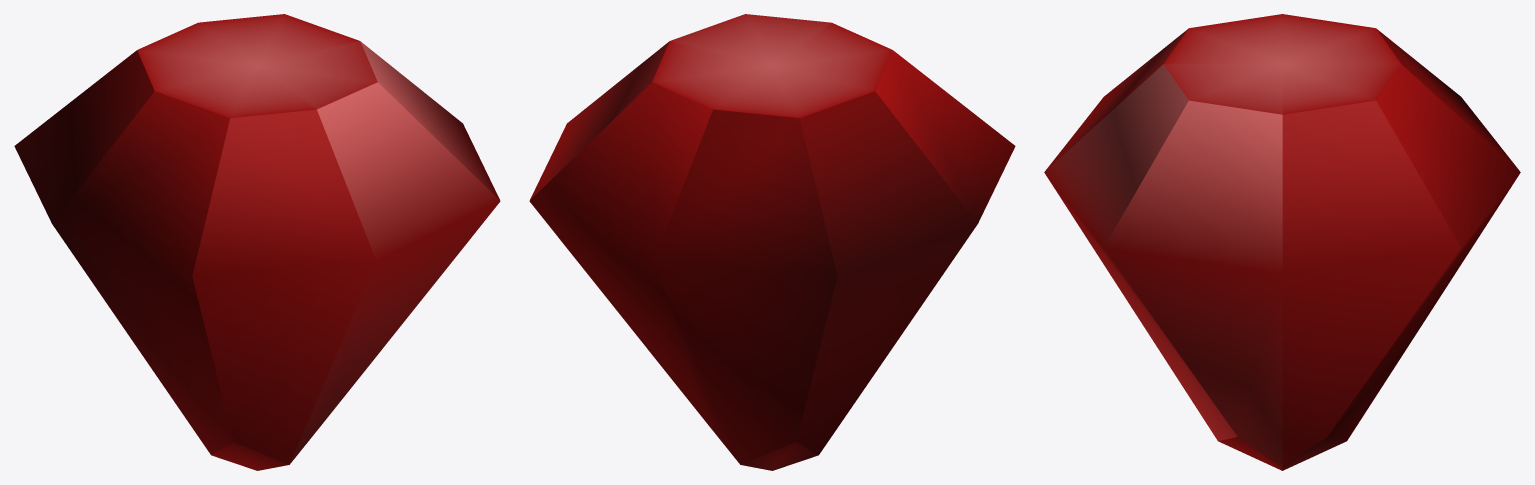
The model's file is gem_red.dae.
3 renders of one model, left to right at view 1: azimuth 30°, elevation 25°; view 2: azimuth 150°, elevation 25°; view 3: azimuth 270°, elevation 25°, orthographic.
Visible parts, largest first — view 1: gem1_MSH; view 2: gem1_MSH; view 3: gem1_MSH.
Boxes of the visible parts, x1,y1,x2,y2 form: gem1_MSH: [14, 14, 500, 470]; gem1_MSH: [529, 14, 1015, 470]; gem1_MSH: [1044, 14, 1520, 470].
Size of the model in its own units: 0.375 by 0.3529 by 0.375.
